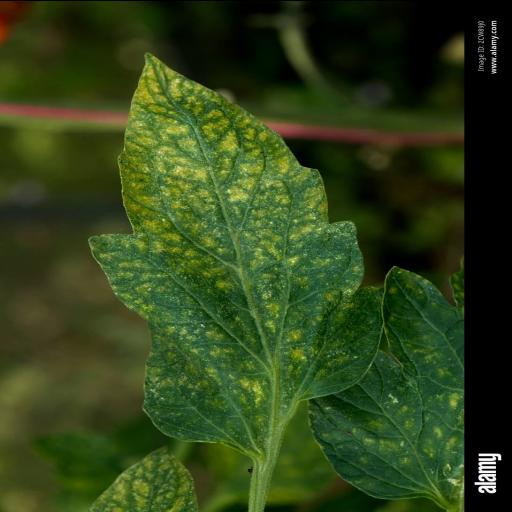Spider Mites: (80, 50, 386, 454)
